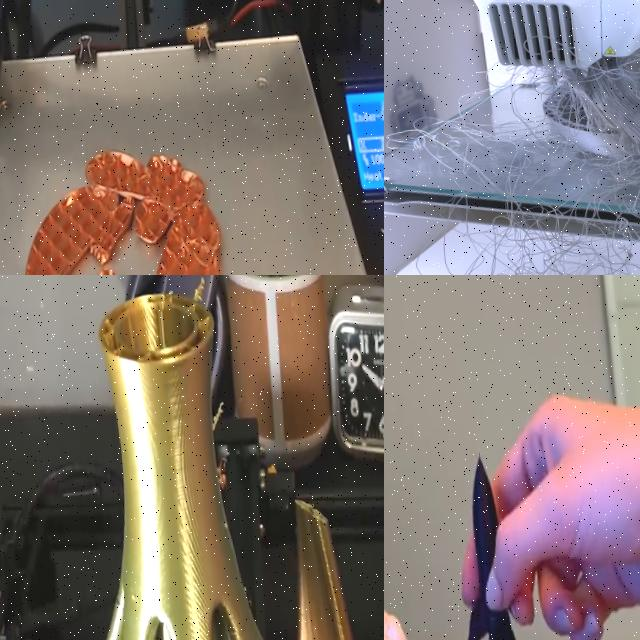spaghetti: (384, 0, 640, 275), (186, 275, 207, 300)
